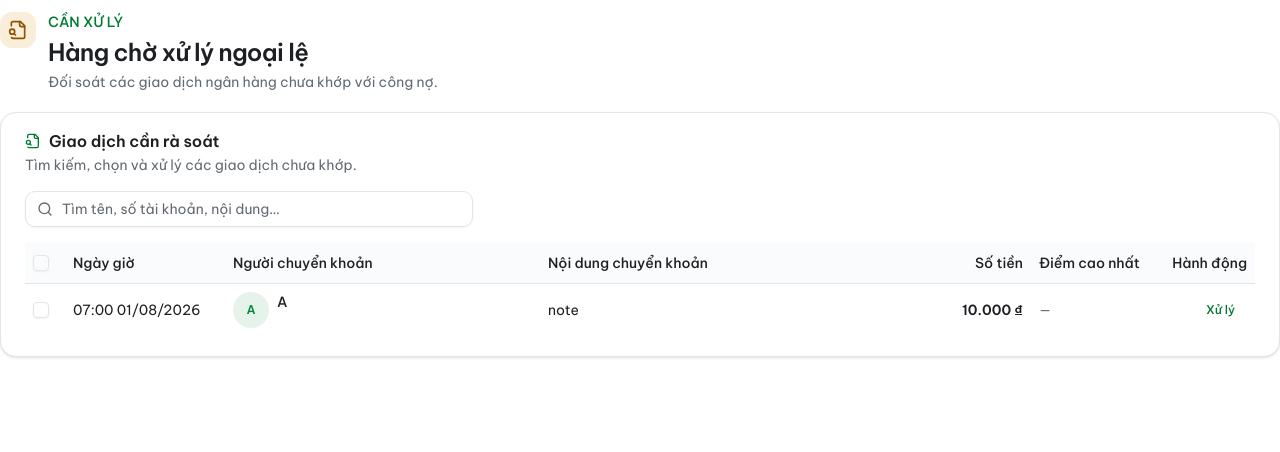
Test: ExceptionsPage › renders a checkbox per row and shows the bulk action bar once a row is selected
What coordinates should you click on to do the following:
click the checkbox named "Chọn giao dịch TX-1"
I would click on:
 (41, 310)
Its box is [33,302,49,318].
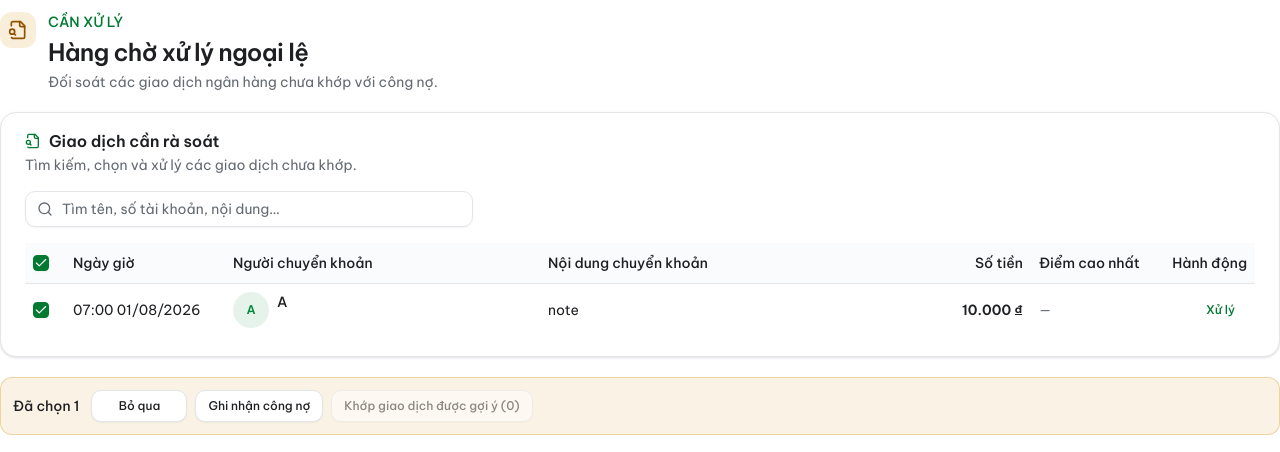
Now the text "Đã chọn 1" is shown, box [13,396,80,416]
